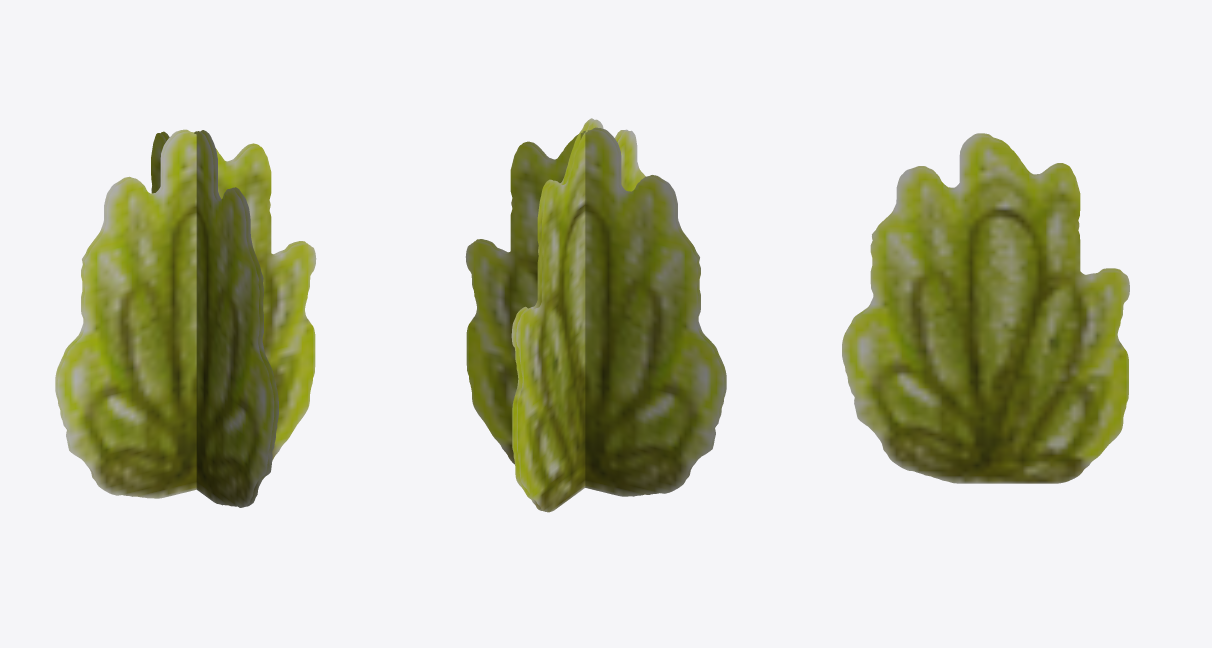
File: Bush6.fbx
The picture shows the model from 3 angles, left to right: view 1: azimuth 30°, elevation 25°; view 2: azimuth 150°, elevation 25°; view 3: azimuth 270°, elevation 25°; orthographic projection. The views are drawn at different scales.
Parts seen in each view (by area): view 1: Bush6; view 2: Bush6; view 3: Bush6.
Boxes of the visible parts, left/top/right/bottom form: Bush6: left=55, top=129, right=316, bottom=507; Bush6: left=465, top=118, right=726, bottom=512; Bush6: left=842, top=133, right=1129, bottom=483.
Bounding box in the file's own units: 318 × 393 × 318.
Materials: 1 (1 with a texture image).
